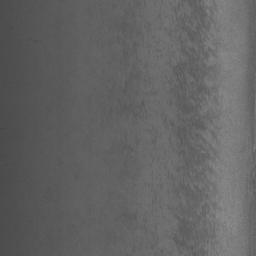Silk spot: (94, 0, 224, 256), (109, 136, 139, 170), (147, 126, 157, 145)
